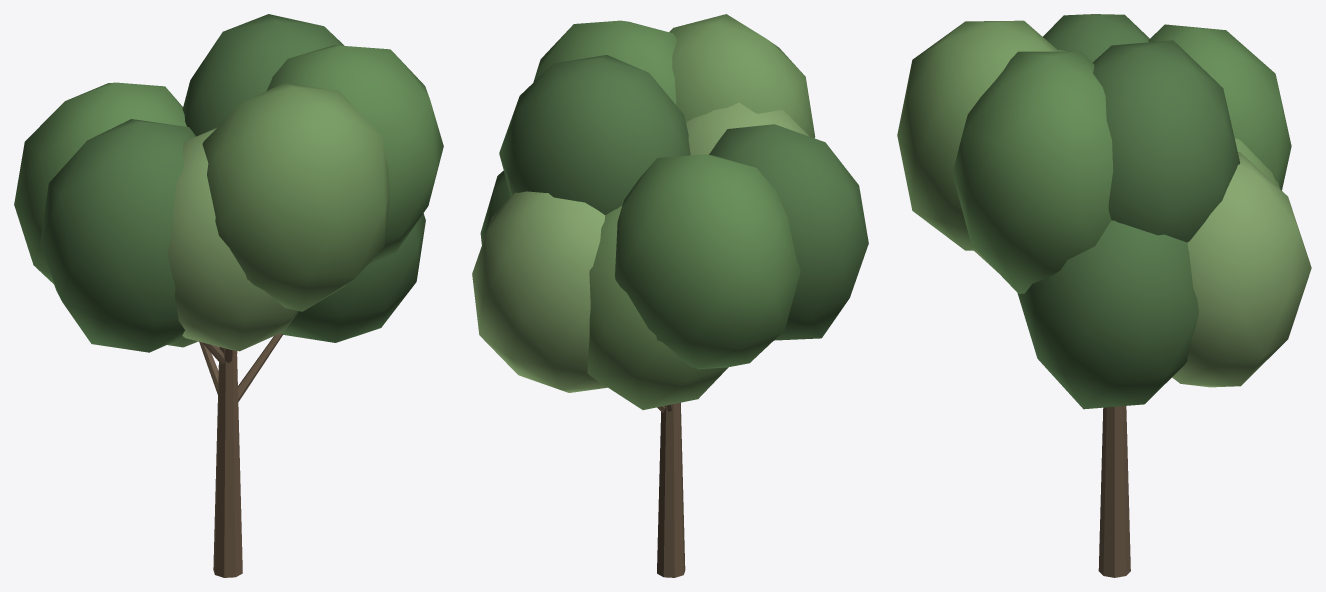
The model's file is pilot-broadleaf-v2.glb.
3 renders of one model, left to right at view 1: azimuth 30°, elevation 25°; view 2: azimuth 150°, elevation 25°; view 3: azimuth 270°, elevation 25°, orthographic. The views are drawn at different scales.
Visible parts, largest first — view 1: Icosphere.008; view 2: Icosphere.008; view 3: Icosphere.008.
Boxes of the visible parts, x1,y1,x2,y2 form: Icosphere.008: (14,14,443,577); Icosphere.008: (472,14,868,577); Icosphere.008: (897,14,1311,577).
Size of the model in its own units: 5.81 by 8 by 5.39.
